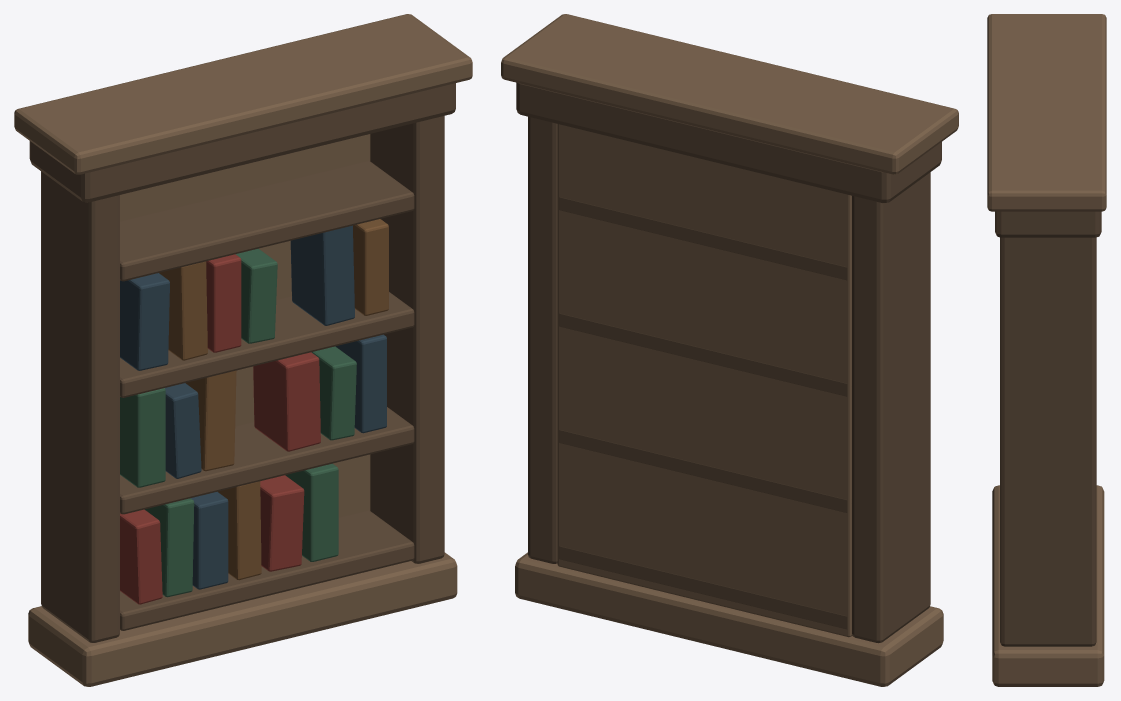
The model's file is pipeline-bookshelf.glb.
3 views of the same model, side by side, from view 1: azimuth 30°, elevation 25°; view 2: azimuth 150°, elevation 25°; view 3: azimuth 270°, elevation 25° (orthographic). The views are drawn at different scales.
Visible parts, largest first — view 1: LeftSide, TopCornice, RightSide, Plinth, Shelf_04, TopBeam, BackPanel, Shelf_01, Shelf_02, Shelf_03, Book_02_04, Book_03_05 (+16 smaller); view 2: BackPanel, LeftSide, TopCornice, Plinth, RightSide, TopBeam, Shelf_01, Shelf_04, Shelf_02, Shelf_03; view 3: RightSide, TopCornice, Plinth, TopBeam.
Part boxes in pixels (x1,y1,x2,y2): LeftSide: (41, 171, 119, 642); TopCornice: (14, 14, 472, 174); RightSide: (370, 116, 444, 563); Plinth: (28, 552, 457, 686); Shelf_04: (120, 161, 414, 281); TopBeam: (29, 83, 455, 202); BackPanel: (120, 134, 370, 517); Shelf_01: (120, 511, 414, 630); Shelf_02: (120, 407, 414, 514); Shelf_03: (120, 292, 414, 397); Book_02_04: (253, 352, 320, 451); Book_03_05: (290, 225, 354, 325); BackPanel: (557, 124, 852, 637); LeftSide: (852, 172, 930, 643); TopCornice: (501, 14, 958, 174); Plinth: (515, 552, 943, 686); RightSide: (528, 116, 557, 563); TopBeam: (516, 82, 941, 203); Shelf_01: (559, 546, 847, 629); Shelf_04: (559, 197, 847, 280); Shelf_02: (559, 429, 847, 512); Shelf_03: (559, 313, 847, 396); RightSide: (1000, 237, 1096, 646); TopCornice: (987, 14, 1106, 211); Plinth: (992, 485, 1104, 686); TopBeam: (995, 211, 1101, 237).
Size of the model in its own units: 1.68 by 2.18 by 0.47.
